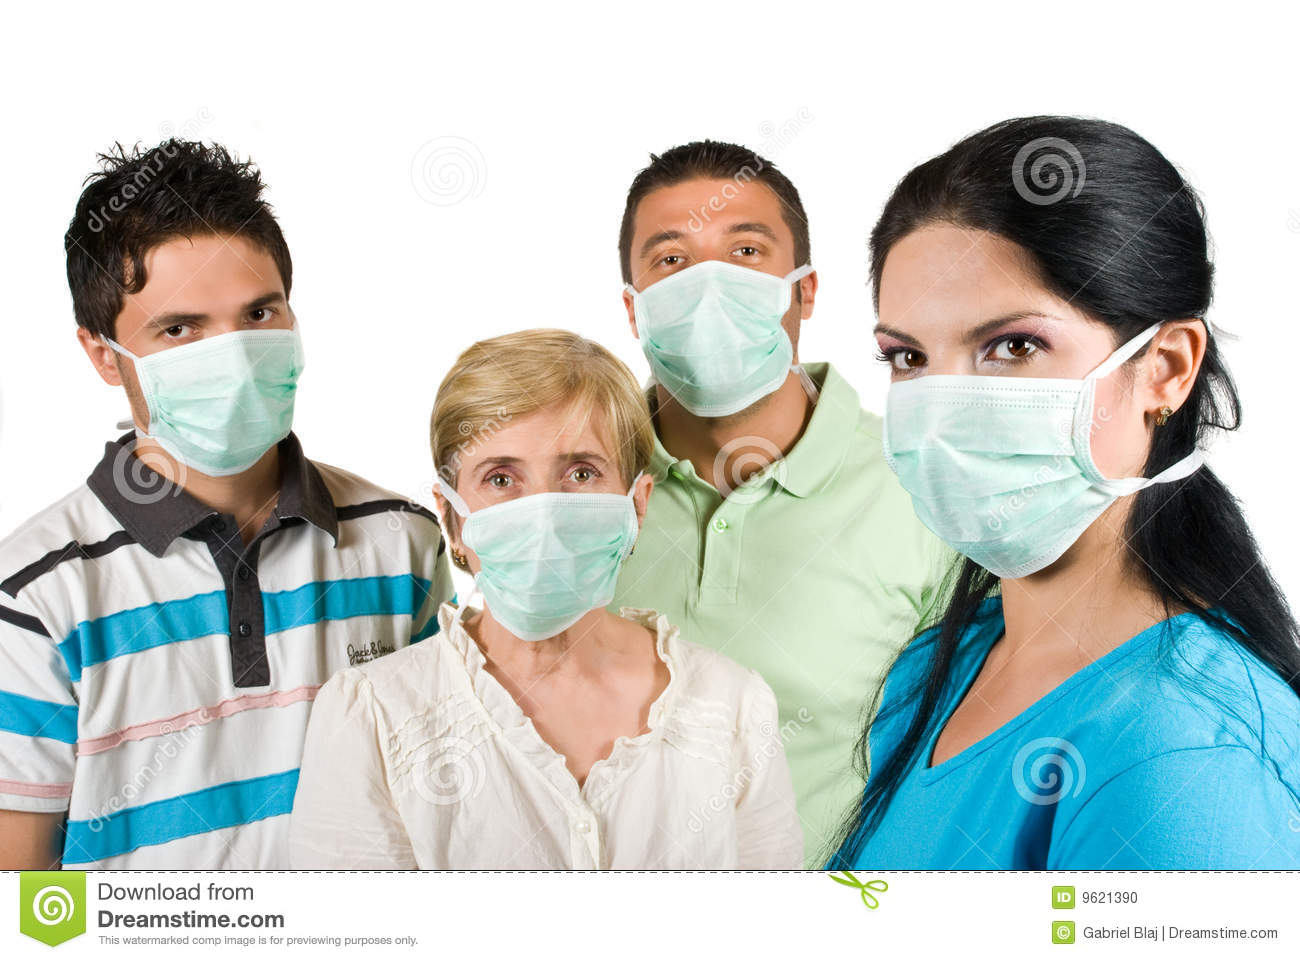mask: (888, 379, 1110, 583), (631, 253, 796, 418), (468, 485, 635, 643), (137, 330, 307, 481)
